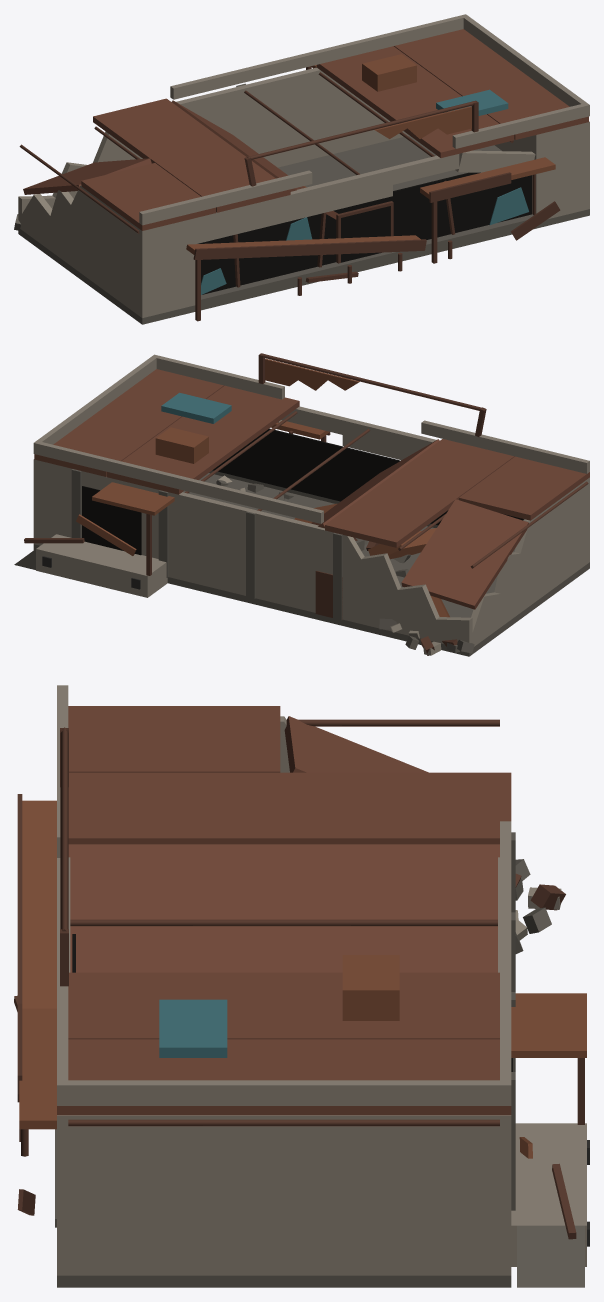
3 views of the same model, one above another, from view 1: azimuth 30°, elevation 25°; view 2: azimuth 150°, elevation 25°; view 3: azimuth 270°, elevation 25° (orthographic). The views are drawn at different scales.
Visible parts, largest first — view 1: site_supermarket_ruin; view 2: site_supermarket_ruin; view 3: site_supermarket_ruin.
Boxes of the visible parts, x1,y1,x2,y2 form: site_supermarket_ruin: (14,14,589,324); site_supermarket_ruin: (14,353,589,656); site_supermarket_ruin: (14,685,589,1287).
Bounding box in the file's own units: 25.34 × 7.51 × 15.22.
